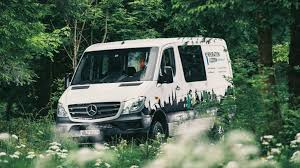Vehicle: (56, 34, 238, 140)
